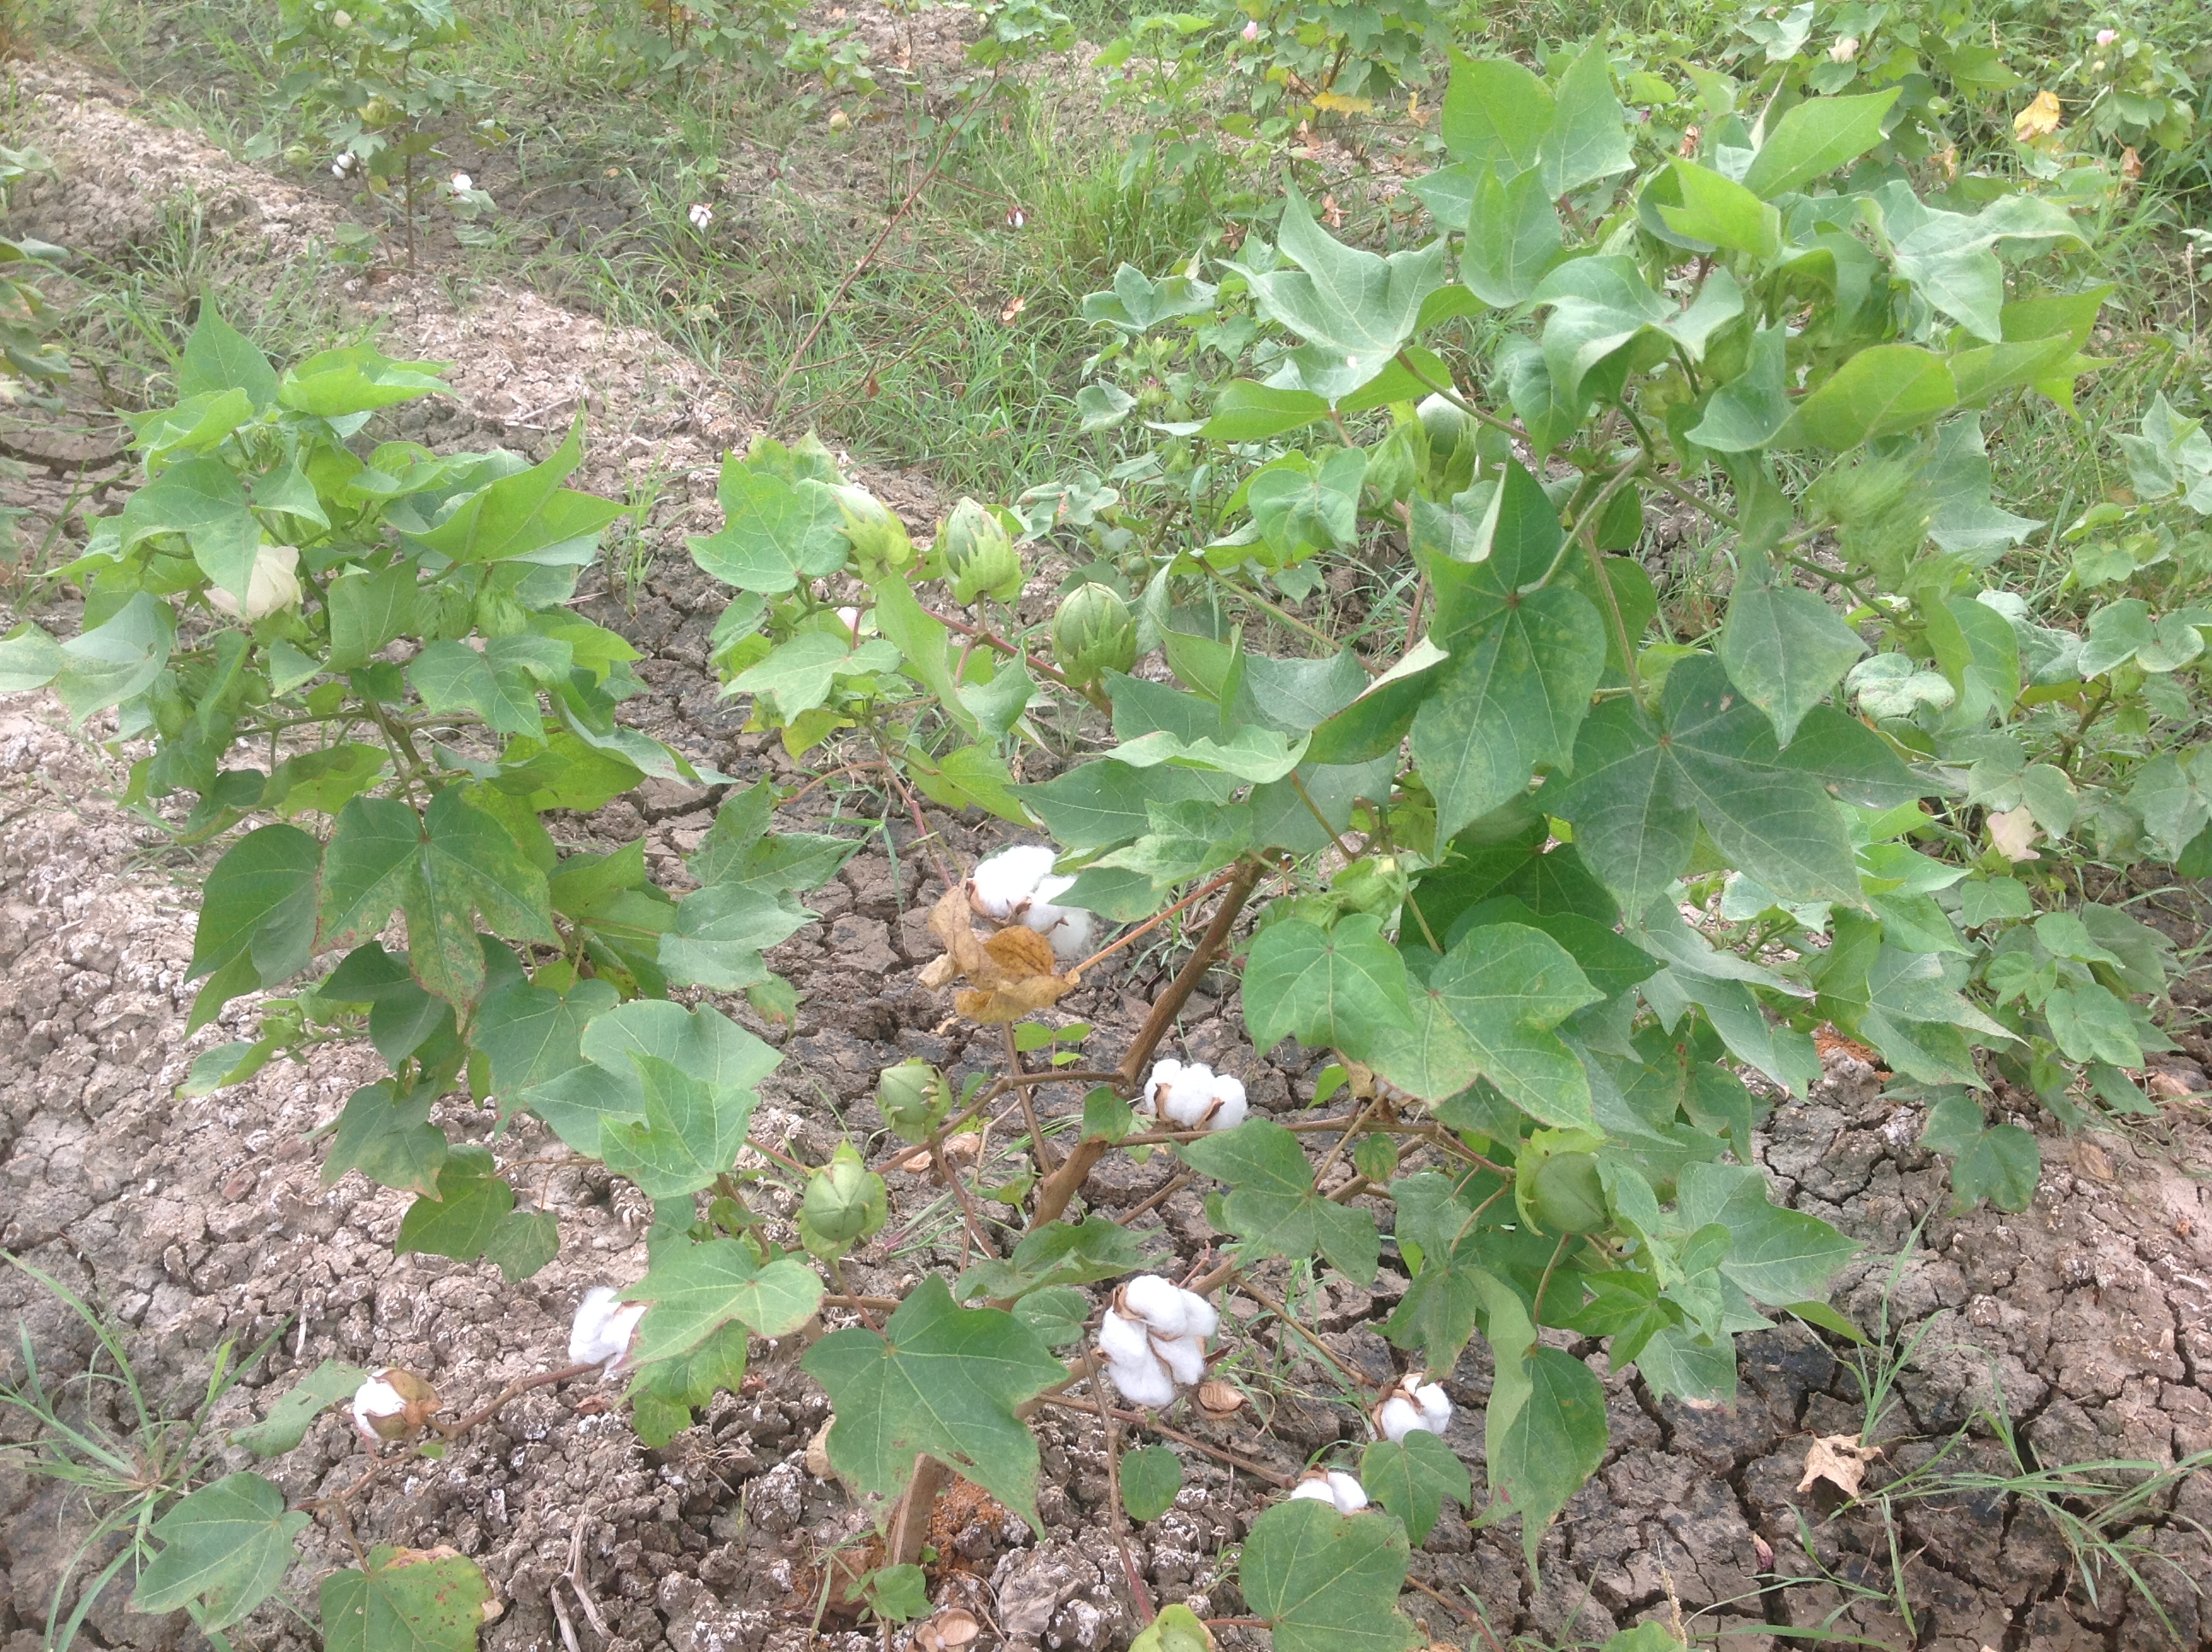cotton: (947, 845, 1109, 998), (1086, 1274, 1227, 1426), (552, 1291, 706, 1399), (1135, 1053, 1263, 1157), (1266, 1461, 1379, 1572), (1353, 1371, 1463, 1468), (350, 1364, 429, 1459)
